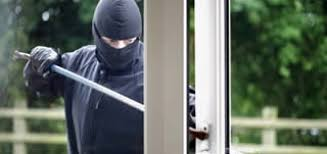crowbar: (11, 45, 209, 142)
